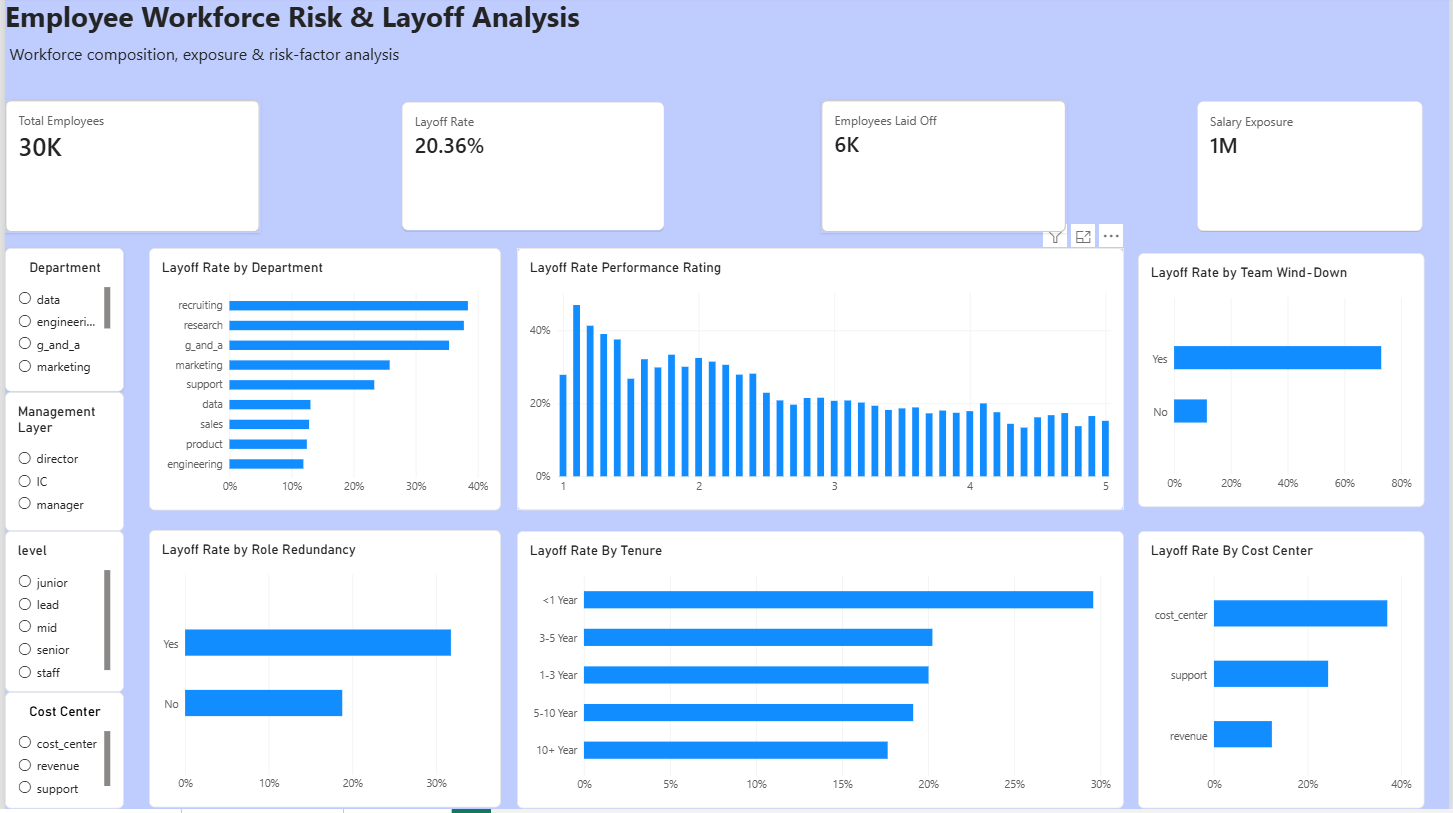

This screenshot's page, from the dashboard's own definition file:
{"tool":"powerbi","page":{"name":" Workforce Overview Dashboard","canvas":[1920,1080],"ordinal":0},"visuals":[{"type":"clusteredBarChart","title":"Layoff Rate by Department","fields":{"Category":["workforce_dashboard_data.department"],"Y":["workforce_dashboard_data.Layoff Rate"]},"box":[191.3,334,468.3,348.7],"z":0},{"type":"clusteredBarChart","title":"Layoff Rate By Cost Center","fields":{"Category":["workforce_dashboard_data.cost_center_type"],"Y":["workforce_dashboard_data.Layoff Rate"]},"box":[1507.1,710.5,380.8,369.1],"z":1000},{"type":"clusteredBarChart","title":"Layoff Rate by Team Wind-Down","fields":{"Category":["workforce_dashboard_data.team_wind_down_label"],"Y":["workforce_dashboard_data.Layoff Rate"]},"box":[1507.1,339.9,381,338],"z":2000},{"type":"clusteredBarChart","title":"Layoff Rate by Role Redundancy","fields":{"Category":["workforce_dashboard_data.role_redundant_label"],"Y":["workforce_dashboard_data.Layoff Rate"]},"box":[191.3,709.1,468.3,369.1],"z":3000},{"type":"clusteredColumnChart","title":"Layoff Rate Performance Rating","fields":{"Category":["workforce_dashboard_data.performance_rating"],"Y":["workforce_dashboard_data.Layoff Rate"]},"box":[681.3,334.1,806.8,348.7],"z":4000},{"type":"listSlicer","title":"Department","fields":{"Values":["workforce_dashboard_data.department"]},"box":[0,334.1,157.6,191.1],"z":5000},{"type":"listSlicer","title":"Cost Center","fields":{"Values":["workforce_dashboard_data.cost_center_type"]},"box":[0,925,157.6,154.7],"z":6000},{"type":"listSlicer","fields":{"Values":["workforce_dashboard_data.level"]},"box":[0,710.5,157.6,214.5],"z":7000},{"type":"listSlicer","title":"Management Layer","fields":{"Values":["workforce_dashboard_data.mgmt_layer"]},"box":[0,525.2,157.6,185.3],"z":8000},{"type":"clusteredBarChart","title":"Layoff Rate By Tenure","fields":{"Category":["workforce_dashboard_data.tenure_band"],"Y":["workforce_dashboard_data.Layoff Rate"]},"box":[681.3,710.5,806.8,369.1],"z":9000},{"type":"cardVisual","fields":{"Data":["workforce_dashboard_data.Total Employees"]},"box":[0,137.1,339.9,176.5],"z":10000},{"type":"cardVisual","fields":{"Data":["workforce_dashboard_data.Employees Laid Off"]},"box":[1085.5,137.1,326.8,176.5],"z":11000},{"type":"cardVisual","fields":{"Data":["workforce_dashboard_data.Layoff Rate"]},"box":[525.2,137.1,354.5,176.5],"z":12000},{"type":"cardVisual","fields":{"Data":["workforce_dashboard_data.Salary Exposure"]},"box":[1584.4,137.1,303.5,176.5],"z":13000},{"type":"textbox","box":[0,0,1920,61.3],"z":14000},{"type":"textbox","box":[0,61.3,1920,45.2],"z":15000}]}

Visuals, with their boxes in screenshot pixels (x1, y1, x2, y2), scaled from the page's 1920x1080 canvas onto the 1453x813 screenshot:
"Layoff Rate by Department" clusteredBarChart: {"x1": 145, "y1": 251, "x2": 499, "y2": 514}
"Layoff Rate By Cost Center" clusteredBarChart: {"x1": 1141, "y1": 535, "x2": 1429, "y2": 812}
"Layoff Rate by Team Wind-Down" clusteredBarChart: {"x1": 1141, "y1": 256, "x2": 1429, "y2": 510}
"Layoff Rate by Role Redundancy" clusteredBarChart: {"x1": 145, "y1": 534, "x2": 499, "y2": 812}
"Layoff Rate Performance Rating" clusteredColumnChart: {"x1": 516, "y1": 252, "x2": 1126, "y2": 514}
"Department" listSlicer: {"x1": 0, "y1": 252, "x2": 119, "y2": 395}
"Cost Center" listSlicer: {"x1": 0, "y1": 696, "x2": 119, "y2": 812}
listSlicer - workforce_dashboard_data.level: {"x1": 0, "y1": 535, "x2": 119, "y2": 696}
"Management Layer" listSlicer: {"x1": 0, "y1": 395, "x2": 119, "y2": 535}
"Layoff Rate By Tenure" clusteredBarChart: {"x1": 516, "y1": 535, "x2": 1126, "y2": 812}
cardVisual - workforce_dashboard_data.Total Employees: {"x1": 0, "y1": 103, "x2": 257, "y2": 236}
cardVisual - workforce_dashboard_data.Employees Laid Off: {"x1": 821, "y1": 103, "x2": 1069, "y2": 236}
cardVisual - workforce_dashboard_data.Layoff Rate: {"x1": 397, "y1": 103, "x2": 666, "y2": 236}
cardVisual - workforce_dashboard_data.Salary Exposure: {"x1": 1199, "y1": 103, "x2": 1429, "y2": 236}
textbox: {"x1": 0, "y1": 0, "x2": 1452, "y2": 46}
textbox: {"x1": 0, "y1": 46, "x2": 1452, "y2": 80}
